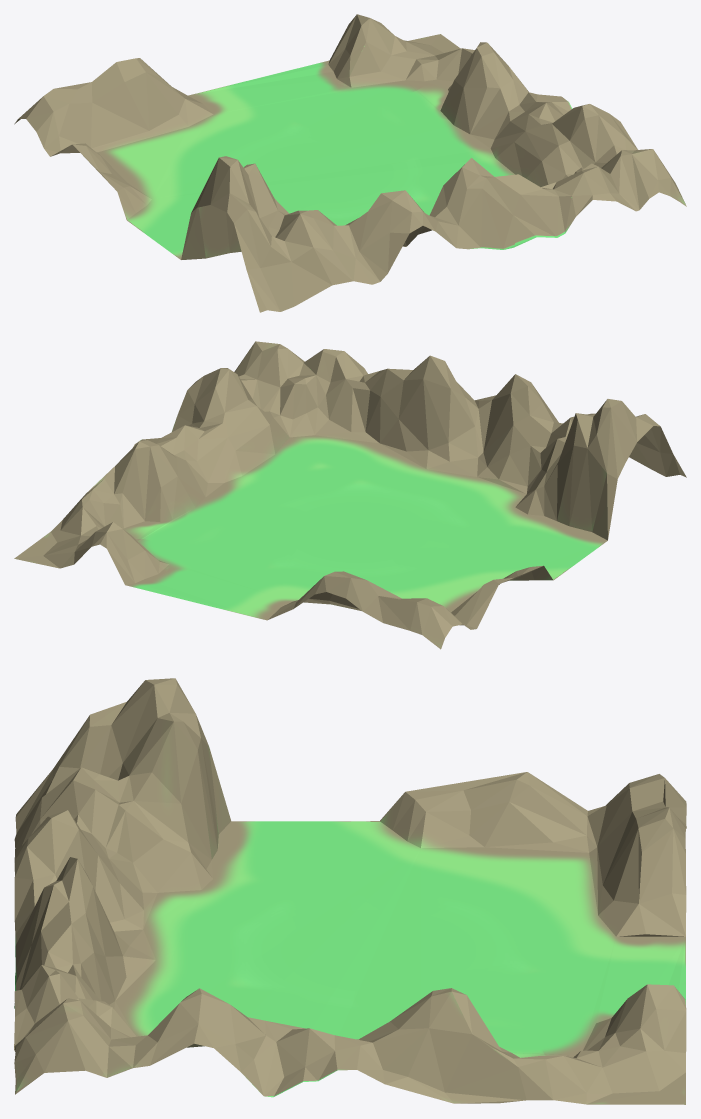
File: Terrain Test.fbx
3 views of the same model, one above another, from view 1: azimuth 30°, elevation 25°; view 2: azimuth 150°, elevation 25°; view 3: azimuth 270°, elevation 25° (orthographic). The views are drawn at different scales.
Visible parts, largest first — view 1: Terrain; view 2: Terrain; view 3: Terrain.
Part boxes in pixels (x1,y1,x2,y2): Terrain: (14,14,686,312); Terrain: (14,341,686,649); Terrain: (14,678,686,1104).
Bounding box in the file's own units: 4008 × 1023 × 4011.
Materials: 1 (1 with a texture image).
